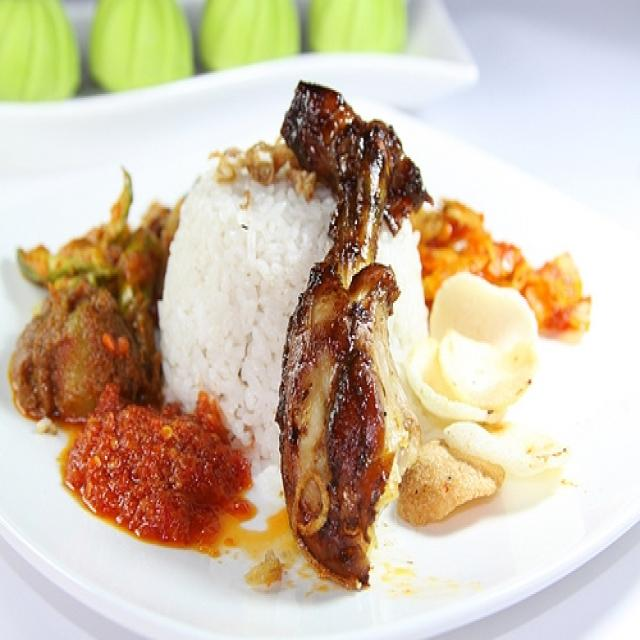米饭主食: (11, 61, 603, 617)
